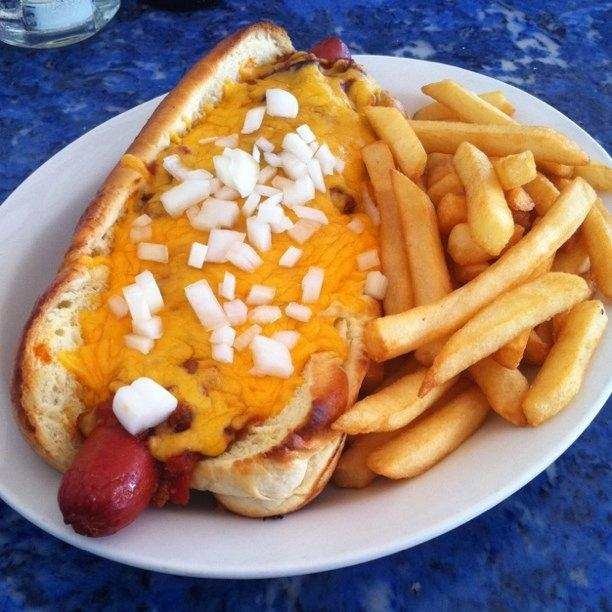onion: (112, 376, 177, 435), (184, 278, 232, 332), (159, 180, 210, 221), (249, 335, 294, 378), (228, 148, 260, 197), (134, 269, 166, 315), (205, 229, 248, 263), (198, 197, 240, 228), (225, 240, 263, 274), (122, 282, 152, 322), (282, 174, 315, 209), (281, 133, 316, 165), (277, 150, 310, 182), (246, 216, 272, 254), (266, 89, 298, 119), (286, 218, 322, 244), (302, 266, 326, 304), (132, 314, 164, 340), (163, 154, 191, 181), (364, 272, 389, 302), (223, 297, 248, 326), (292, 206, 328, 226), (137, 242, 169, 264), (241, 106, 266, 134), (245, 285, 276, 305), (256, 202, 284, 224), (355, 248, 380, 272), (285, 302, 313, 322), (218, 271, 236, 301), (256, 192, 284, 210), (211, 342, 235, 363), (130, 224, 152, 244), (296, 124, 316, 144), (215, 133, 238, 148), (210, 177, 224, 194)
